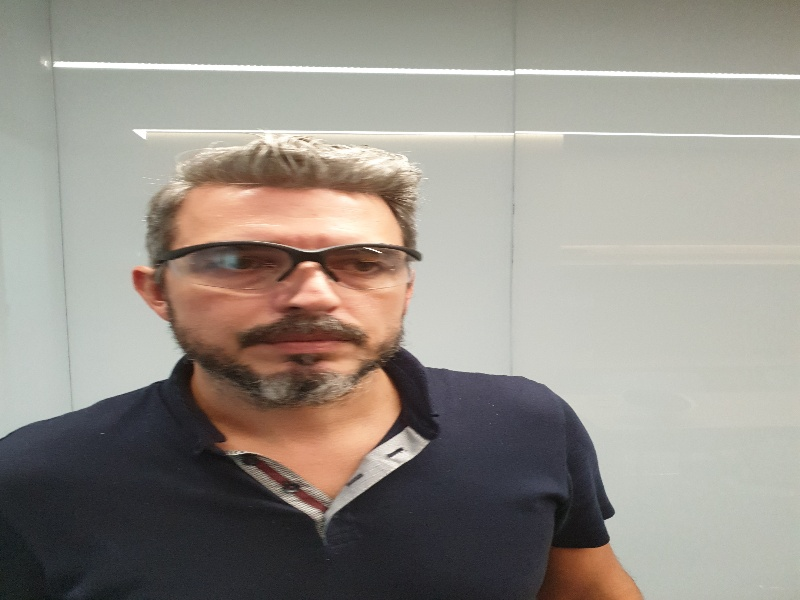Gozluk: (155, 241, 424, 297)
